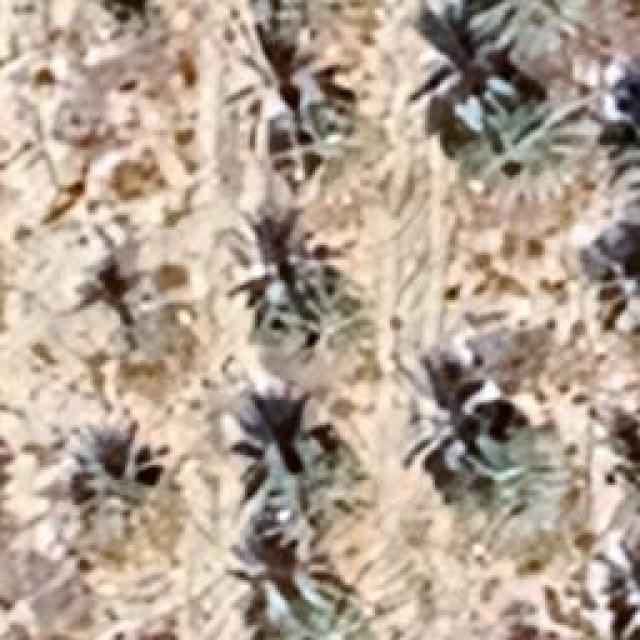PalmTree: (35, 44, 622, 119), (450, 95, 588, 223), (218, 27, 340, 155), (258, 76, 370, 190), (238, 414, 362, 514), (402, 368, 508, 478), (222, 530, 336, 628), (252, 258, 368, 354), (78, 241, 182, 339), (64, 428, 168, 524), (432, 0, 579, 62), (578, 207, 638, 335), (255, 585, 382, 640), (260, 0, 378, 48), (592, 542, 640, 640), (605, 395, 640, 493), (615, 105, 640, 218), (620, 114, 640, 224)
